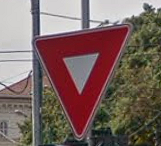cedeaza: (24, 21, 133, 142)
